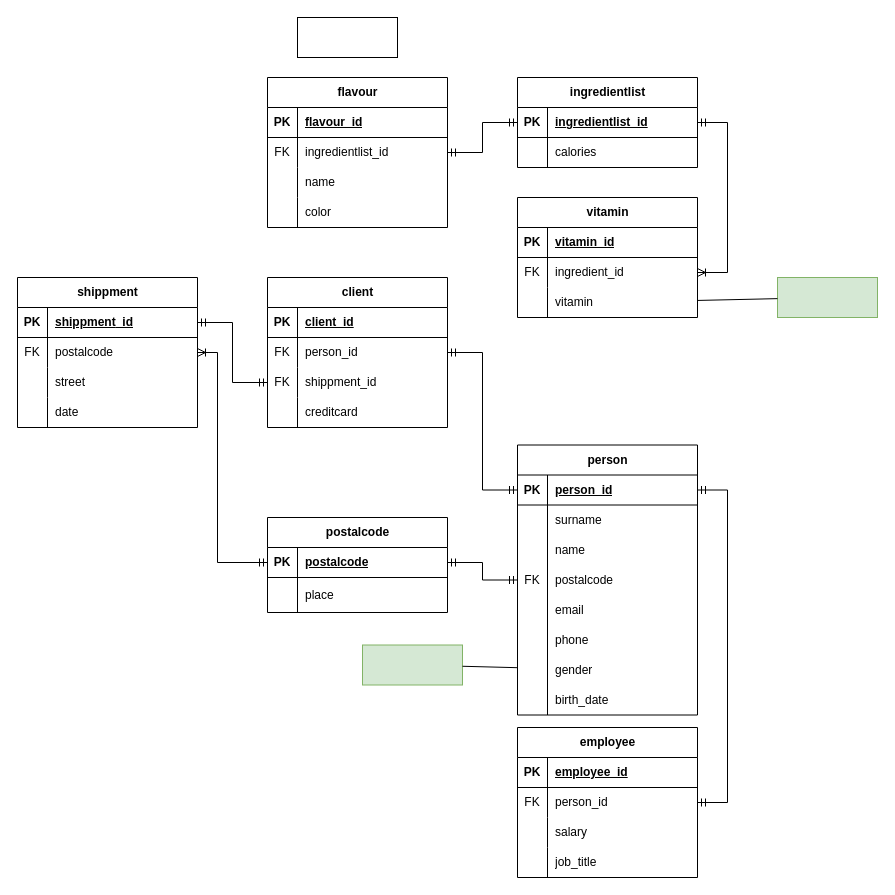
This 895x895 diagram has some shape labels left out. The shapes that lost their labels are listed below. From the top down, each one's centre as x and y in pixels, then its label:
the point at 347,37: flavour = one edition type
the point at 827,297: vitamin A vitamin B1 ...
the point at 412,664: male female
